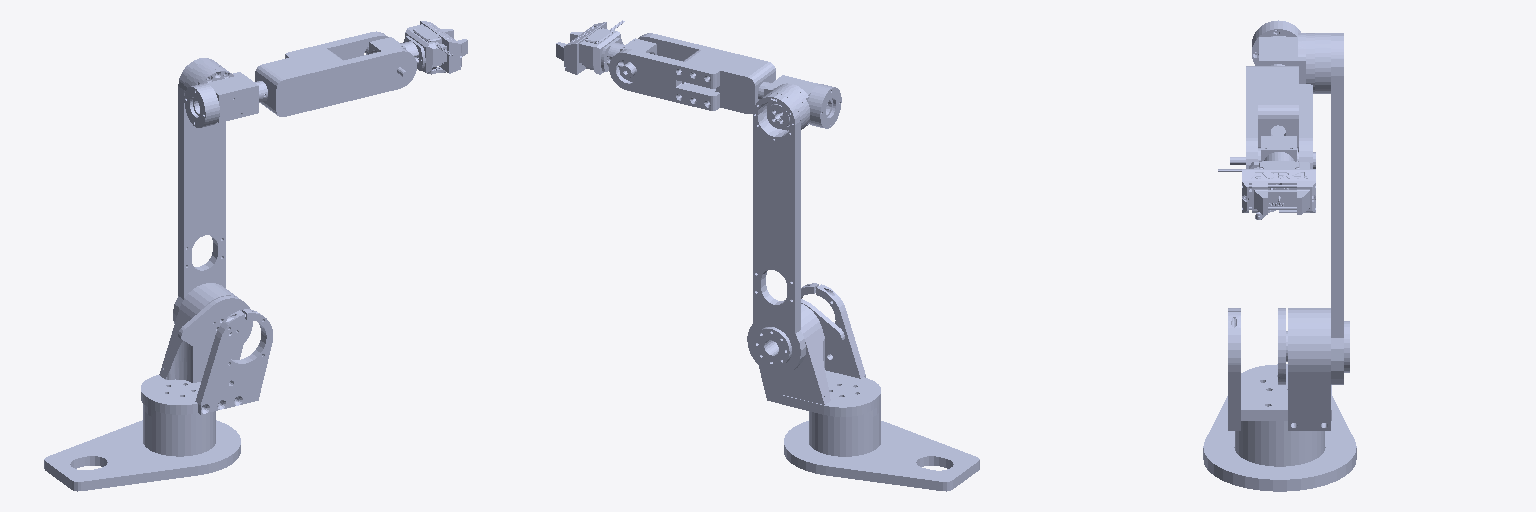
The robot description file, URDF, robot "AR4_robotv5":
<?xml version="1.0" encoding="utf-8"?>
<!-- This URDF was automatically created by SolidWorks to URDF Exporter! Originally created by [author] ([email redacted]) 
     Commit Version: 1.6.0-4-g7f85cfe  Build Version: 1.6.7995.38578
     For more information, please see http://wiki.ros.org/sw_urdf_exporter -->
<robot
  name="AR4_robotv5">
  <link
    name="fixed_base">
    <inertial>
      <origin
        xyz="-0.0306536963899715 -2.44484649533754E-16 0.0159301721557005"
        rpy="0 0 0" />
      <mass
        value="0.430596742452915" />
      <inertia
        ixx="0.000592836541089023"
        ixy="-2.7947074339812E-18"
        ixz="3.16649003573555E-06"
        iyy="0.00143993470886868"
        iyz="-1.46147455512225E-18"
        izz="0.00196041354174175" />
    </inertial>
    <visual>
      <origin
        xyz="0 0 0"
        rpy="0 0 0" />
      <geometry>
        <mesh
          filename="package://AR4_robotv5/meshes/fixed_base.STL" />
      </geometry>
      <material
        name="">
        <color
          rgba="0.792156862745098 0.819607843137255 0.933333333333333 1" />
      </material>
    </visual>
    <collision>
      <origin
        xyz="0 0 0"
        rpy="0 0 0" />
      <geometry>
        <mesh
          filename="package://AR4_robotv5/meshes/fixed_base.STL" />
      </geometry>
    </collision>
  </link>
  <link
    name="link1">
    <inertial>
      <origin
        xyz="-0.0323300202262942 0.0876379666323026 0.00606618776675665"
        rpy="0 0 0" />
      <mass
        value="0.511108316154896" />
      <inertia
        ixx="0.000444689420884809"
        ixy="3.3051231296309E-05"
        ixz="-3.59204112024893E-06"
        iyy="0.000393019588638468"
        iyz="2.35566156473204E-06"
        izz="0.00061675346116437" />
    </inertial>
    <visual>
      <origin
        xyz="0 0 0"
        rpy="0 0 0" />
      <geometry>
        <mesh
          filename="package://AR4_robotv5/meshes/link1.STL" />
      </geometry>
      <material
        name="">
        <color
          rgba="0.792156862745098 0.819607843137255 0.933333333333333 1" />
      </material>
    </visual>
    <collision>
      <origin
        xyz="0 0 0"
        rpy="0 0 0" />
      <geometry>
        <mesh
          filename="package://AR4_robotv5/meshes/link1.STL" />
      </geometry>
    </collision>
  </link>
  <joint
    name="j1"
    type="revolute">
    <origin
      xyz="0 0 0"
      rpy="1.5708 0 -3.1416" />
    <parent
      link="fixed_base" />
    <child
      link="link1" />
    <axis
      xyz="0 1 0" />
    <limit
      lower="-2.967"
      upper="2.967"
      effort="0"
      velocity="0" />
  </joint>
  <link
    name="link2">
    <inertial>
      <origin
        xyz="0.116556714204464 -0.000883910513608144 0.046618699592506"
        rpy="0 0 0" />
      <mass
        value="0.323855620699725" />
      <inertia
        ixx="0.000133908814758313"
        ixy="2.65151242326013E-07"
        ixz="-2.32664150337736E-08"
        iyy="0.00230480430533661"
        iyz="-2.16182715850116E-09"
        izz="0.00240195674477352" />
    </inertial>
    <visual>
      <origin
        xyz="0 0 0"
        rpy="0 0 0" />
      <geometry>
        <mesh
          filename="package://AR4_robotv5/meshes/link2.STL" />
      </geometry>
      <material
        name="">
        <color
          rgba="0.792156862745098 0.819607843137255 0.933333333333333 1" />
      </material>
    </visual>
    <collision>
      <origin
        xyz="0 0 0"
        rpy="0 0 0" />
      <geometry>
        <mesh
          filename="package://AR4_robotv5/meshes/link2.STL" />
      </geometry>
    </collision>
  </link>
  <joint
    name="j2"
    type="revolute">
    <origin
      xyz="-0.0641992596263865 0.151269000000001 0"
      rpy="0 0 1.5707963267949" />
    <parent
      link="link1" />
    <child
      link="link2" />
    <axis
      xyz="0 0 1" />
    <limit
      lower="-0.733"
      upper="1.571"
      effort="0"
      velocity="0" />
  </joint>
  <link
    name="link3">
    <inertial>
      <origin
        xyz="3.34736758973997E-05 -0.014678986348043 0.00415412090811089"
        rpy="0 0 0" />
      <mass
        value="0.0851867148181061" />
      <inertia
        ixx="3.47805591735004E-05"
        ixy="-2.65949151380486E-08"
        ixz="-2.59618294046106E-08"
        iyy="3.59173363820087E-05"
        iyz="-3.28353176410664E-07"
        izz="3.06202603811511E-05" />
    </inertial>
    <visual>
      <origin
        xyz="0 0 0"
        rpy="0 0 0" />
      <geometry>
        <mesh
          filename="package://AR4_robotv5/meshes/link3.STL" />
      </geometry>
      <material
        name="">
        <color
          rgba="0.792156862745098 0.819607843137255 0.933333333333333 1" />
      </material>
    </visual>
    <collision>
      <origin
        xyz="0 0 0"
        rpy="0 0 0" />
      <geometry>
        <mesh
          filename="package://AR4_robotv5/meshes/link3.STL" />
      </geometry>
    </collision>
  </link>
  <joint
    name="j3"
    type="revolute">
    <origin
      xyz="0.304999999999999 0 0"
      rpy="-1.5707963267949 0 0" />
    <parent
      link="link2" />
    <child
      link="link3" />
    <axis
      xyz="0 1 0" />
    <limit
      lower="-1.553"
      upper="0.908"
      effort="0"
      velocity="0" />
  </joint>
  <link
    name="link4">
    <inertial>
      <origin
        xyz="1.65972746341003E-06 0.114308868744708 -0.00196391551724488"
        rpy="0 0 0" />
      <mass
        value="0.330915774998875" />
      <inertia
        ixx="0.000770714464836303"
        ixy="-5.83780279549621E-08"
        ixz="-9.03681380466358E-09"
        iyy="0.000143595801102121"
        iyz="6.92144604392256E-05"
        izz="0.00078144566914053" />
    </inertial>
    <visual>
      <origin
        xyz="0 0 0"
        rpy="0 0 0" />
      <geometry>
        <mesh
          filename="package://AR4_robotv5/meshes/link4.STL" />
      </geometry>
      <material
        name="">
        <color
          rgba="0.792156862745098 0.819607843137255 0.933333333333333 1" />
      </material>
    </visual>
    <collision>
      <origin
        xyz="0 0 0"
        rpy="0 0 0" />
      <geometry>
        <mesh
          filename="package://AR4_robotv5/meshes/link4.STL" />
      </geometry>
    </collision>
  </link>
  <joint
    name="j4"
    type="revolute">
    <origin
      xyz="0 0.00165000000000398 0"
      rpy="1.57079632679489 0 0.000843332253807779" />
    <parent
      link="link3" />
    <child
      link="link4" />
    <axis
      xyz="0 1 0" />
    <limit
      lower="-2.88"
      upper="2.88"
      effort="0"
      velocity="0" />
  </joint>
  <link
    name="link5">
    <inertial>
      <origin
        xyz="4.46631409203313E-05 0.0010582355958296 -0.000637441503684444"
        rpy="0 0 0" />
      <mass
        value="0.0245034490928621" />
      <inertia
        ixx="9.03633668429963E-06"
        ixy="9.04257798543254E-09"
        ixz="-2.14953206266449E-09"
        iyy="5.7526255063883E-06"
        iyz="-2.03350961333318E-08"
        izz="1.2157538793257E-05" />
    </inertial>
    <visual>
      <origin
        xyz="0 0 0"
        rpy="0 0 0" />
      <geometry>
        <mesh
          filename="package://AR4_robotv5/meshes/link5.STL" />
      </geometry>
      <material
        name="">
        <color
          rgba="0.792156862745098 0.819607843137255 0.933333333333333 1" />
      </material>
    </visual>
    <collision>
      <origin
        xyz="0 0 0"
        rpy="0 0 0" />
      <geometry>
        <mesh
          filename="package://AR4_robotv5/meshes/link5.STL" />
      </geometry>
    </collision>
  </link>
  <joint
    name="j5"
    type="revolute">
    <origin
      xyz="0 0.225041312909753 0.0007499997333115"
      rpy="1.57079631189374 -0.000843332253807779 0" />
    <parent
      link="link4" />
    <child
      link="link5" />
    <axis
      xyz="0 1 0" />
    <limit
      lower="-1.833"
      upper="1.833"
      effort="0"
      velocity="0" />
  </joint>
  <link
    name="link6">
    <inertial>
      <origin
        xyz="-0.00160633858276565 -0.000457062617008543 -0.0587695487539506"
        rpy="0 0 0" />
      <mass
        value="0.121376042767568" />
      <inertia
        ixx="3.53039178237827E-05"
        ixy="-4.7308746638171E-08"
        ixz="-4.47726039625278E-07"
        iyy="1.81330403322111E-05"
        iyz="-2.21518225549172E-07"
        izz="4.26315107565952E-05" />
    </inertial>
    <visual>
      <origin
        xyz="0 0 0"
        rpy="0 0 0" />
      <geometry>
        <mesh
          filename="package://AR4_robotv5/meshes/link6.STL" />
      </geometry>
      <material
        name="">
        <color
          rgba="0.792156862745098 0.819607843137255 0.933333333333333 1" />
      </material>
    </visual>
    <collision>
      <origin
        xyz="0 0 0"
        rpy="0 0 0" />
      <geometry>
        <mesh
          filename="package://AR4_robotv5/meshes/link6.STL" />
      </geometry>
    </collision>
  </link>
  <joint
    name="j6"
    type="revolute">
    <origin
      xyz="0 0 0"
      rpy="0 0 3.14159265358979" />
    <parent
      link="link5" />
    <child
      link="link6" />
    <axis
      xyz="0 0 1" />
    <limit
      lower="-2.705"
      upper="2.705"
      effort="0"
      velocity="0" />
  </joint>
  <link
    name="link7">
    <inertial>
      <origin
        xyz="0.00401715386268953 -1.82145964977565E-17 -1.11022302462516E-16"
        rpy="0 0 0" />
      <mass
        value="4.28541445828409E-05" />
      <inertia
        ixx="3.26374304335892E-11"
        ixy="1.38439272082023E-24"
        ixz="4.70953291237086E-24"
        iyy="3.40574299802589E-10"
        iyz="2.22599419002211E-28"
        izz="3.40574299802589E-10" />
    </inertial>
    <visual>
      <origin
        xyz="0 0 0"
        rpy="0 0 0" />
      <geometry>
        <mesh
          filename="package://AR4_robotv5/meshes/link7.STL" />
      </geometry>
      <material
        name="">
        <color
          rgba="0.792156862745098 0.819607843137255 0.933333333333333 1" />
      </material>
    </visual>
    <collision>
      <origin
        xyz="0 0 0"
        rpy="0 0 0" />
      <geometry>
        <mesh
          filename="package://AR4_robotv5/meshes/link7.STL" />
      </geometry>
    </collision>
  </link>
  <joint
    name="j7"
    type="fixed">
    <origin
      xyz="0 -0.000201201957805657 -0.0848321039170631"
      rpy="0 1.5707963267949 0" />
    <parent
      link="link6" />
    <child
      link="link7" />
    <axis
      xyz="0 0 0" />
  </joint>
</robot>

--- Render facts (derived) ---
Views: 3 orthographic renders of the robot side by side, from view 1: azimuth 30°, elevation 25°; view 2: azimuth 150°, elevation 25°; view 3: azimuth 270°, elevation 25°.
Model AR4_robotv5 with 8 links and 7 joints (6 revolute, 1 fixed), rooted at fixed_base, posed all joints at 0.
Visible links, largest first — view 1: link2, fixed_base, link4, link1, link6, link3; view 2: link2, fixed_base, link4, link1, link6, link3, link5; view 3: link1, fixed_base, link2, link4, link6, link3, link5.
Boxes of the visible links, left/top/right/bottom form: link2: left=173, top=58, right=252, bottom=354; fixed_base: left=44, top=404, right=240, bottom=491; link4: left=184, top=31, right=416, bottom=127; link1: left=141, top=283, right=272, bottom=414; link6: left=400, top=21, right=467, bottom=74; link3: left=191, top=66, right=258, bottom=122; link2: left=747, top=89, right=844, bottom=374; fixed_base: left=784, top=403, right=979, bottom=491; link4: left=609, top=33, right=841, bottom=128; link1: left=759, top=283, right=880, bottom=416; link6: left=556, top=20, right=624, bottom=74; link3: left=764, top=75, right=817, bottom=128; link5: left=620, top=38, right=656, bottom=81; link1: left=1228, top=308, right=1331, bottom=430; fixed_base: left=1203, top=396, right=1356, bottom=491; link2: left=1278, top=33, right=1349, bottom=384; link4: left=1246, top=20, right=1312, bottom=168; link6: left=1218, top=152, right=1315, bottom=219; link3: left=1259, top=33, right=1314, bottom=93; link5: left=1230, top=136, right=1315, bottom=168.
Size in the robot's own frame: 0.5649 by 0.15 by 0.4956 metres.
Meshes: 8 distinct files referenced, 8 mesh visuals loaded (8 binary STL).